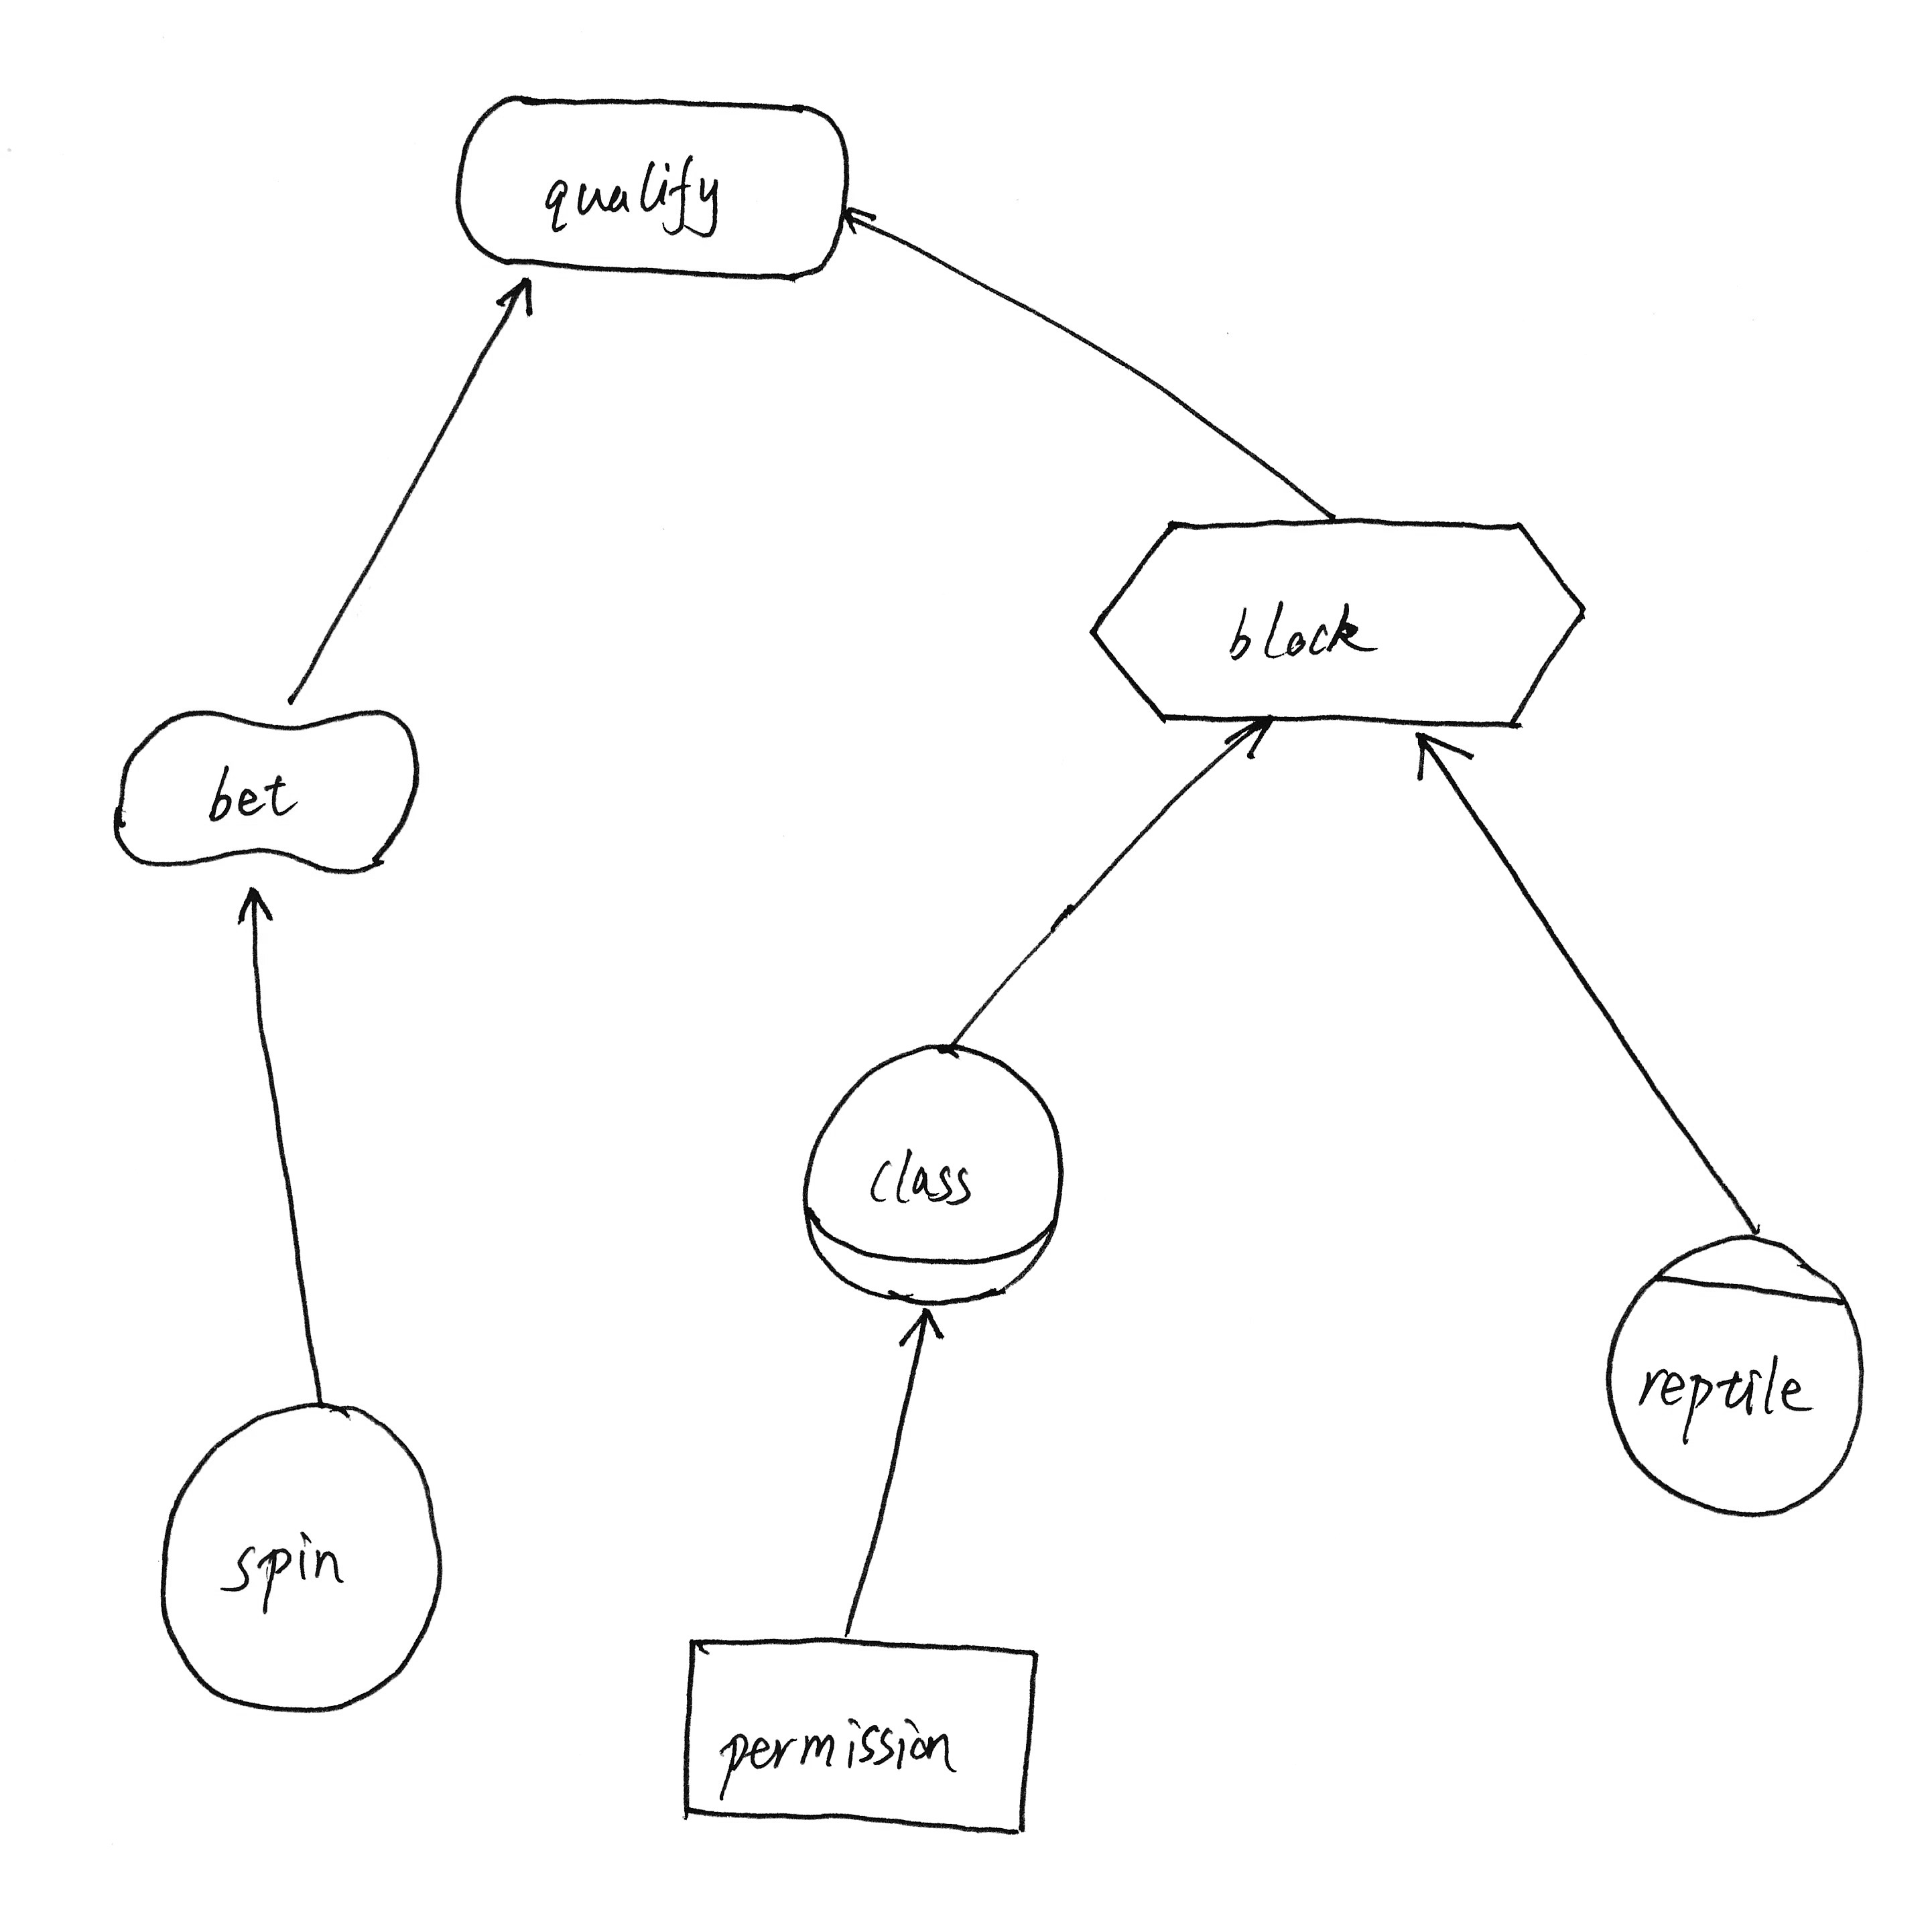actor: (133, 1384, 468, 1729)
agent: (1586, 1220, 1884, 1536)
arrow: (1391, 721, 1483, 788), (472, 272, 551, 338), (224, 868, 286, 944), (882, 1296, 955, 1359), (829, 189, 889, 262), (1209, 718, 1276, 771)
goal: (438, 69, 873, 299)
quality: (94, 688, 433, 891)
resource: (658, 1615, 1050, 1859)
role: (780, 1029, 1080, 1318)
task: (1071, 498, 1596, 742)
